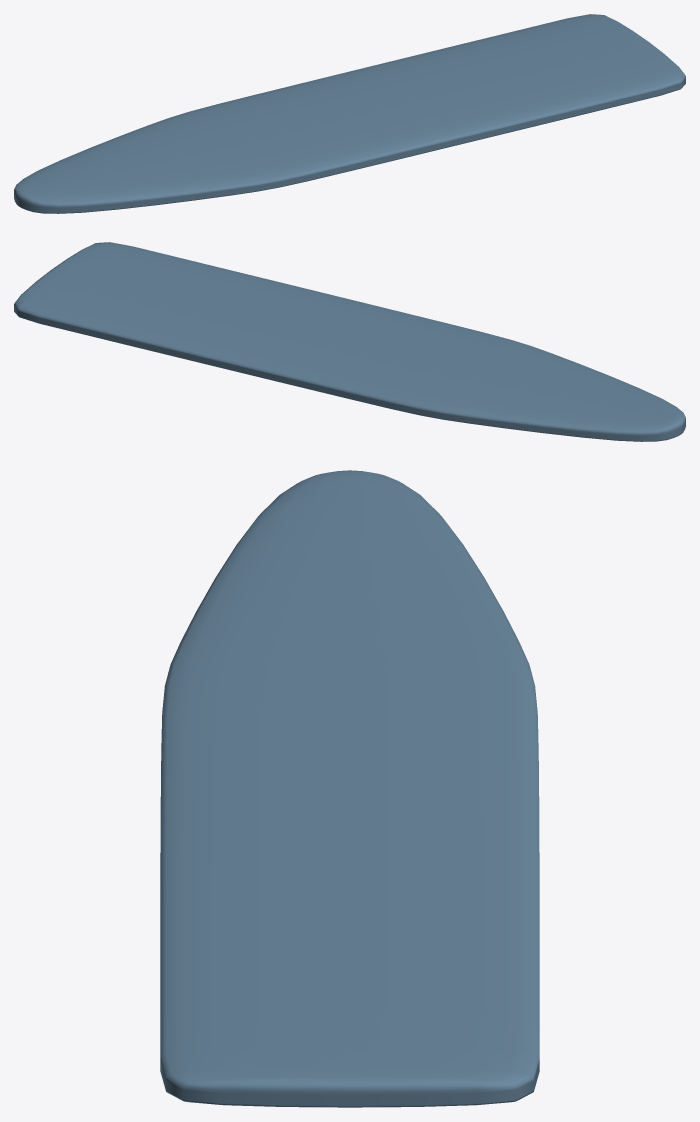
Rendered from IroningBoard.fbx.
The picture shows the model from 3 angles, top to bottom: view 1: azimuth 30°, elevation 25°; view 2: azimuth 150°, elevation 25°; view 3: azimuth 270°, elevation 25°; orthographic projection. The views are drawn at different scales.
Parts seen in each view (by area): view 1: Top; view 2: Top; view 3: Top.
Part boxes in pixels (left/top/right/bottom): Top: left=14, top=14, right=685, bottom=213; Top: left=14, top=242, right=685, bottom=441; Top: left=160, top=470, right=539, bottom=1107.
Bounding box in the file's own units: 16.02 × 0.3264 × 4.17.
